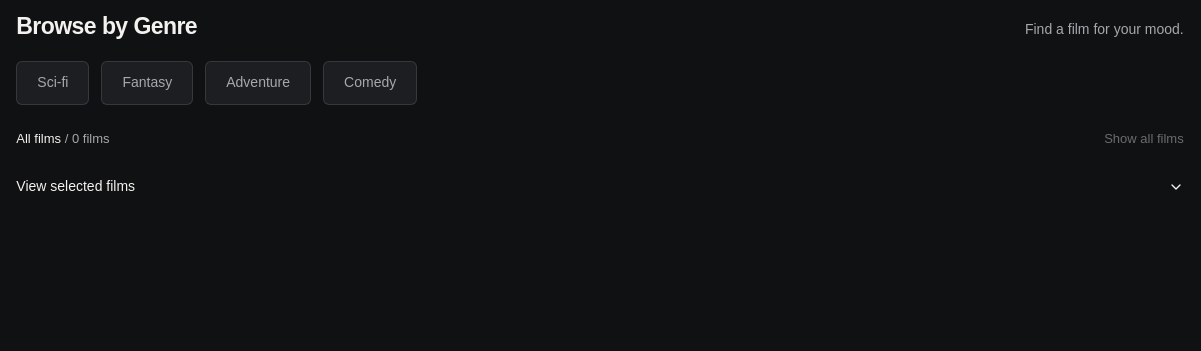
Test: allows deselecting a genre and presents a graceful empty state
Click the button "Fantasy" at (147,83), box [101,61,193,105]
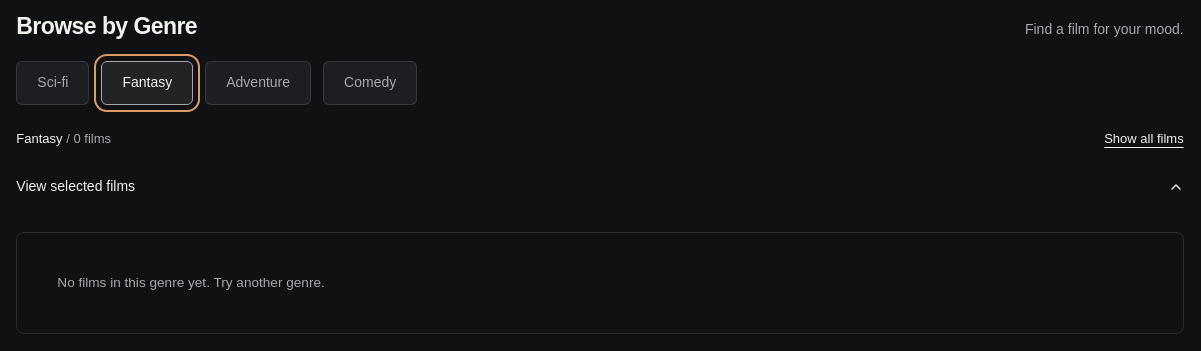
Result: the text "No films in this genre yet. Try another genre." is shown at [16,232,1184,334]
Click the button "Fantasy" at (147,83), box [101,61,193,105]
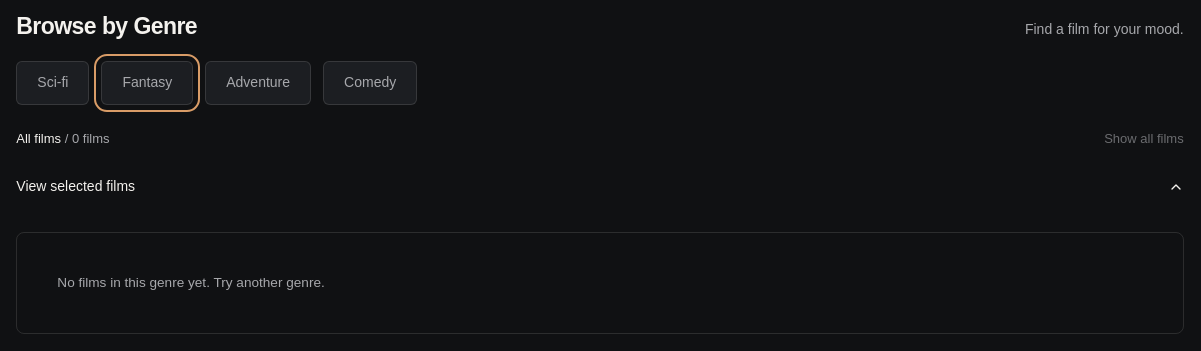
Result: the message reads "All films / 0 films" at [16,129,110,148]
